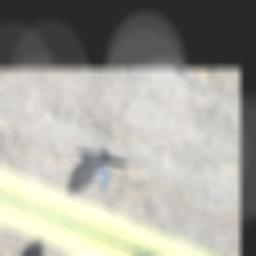Crow: (45, 135, 134, 211)
